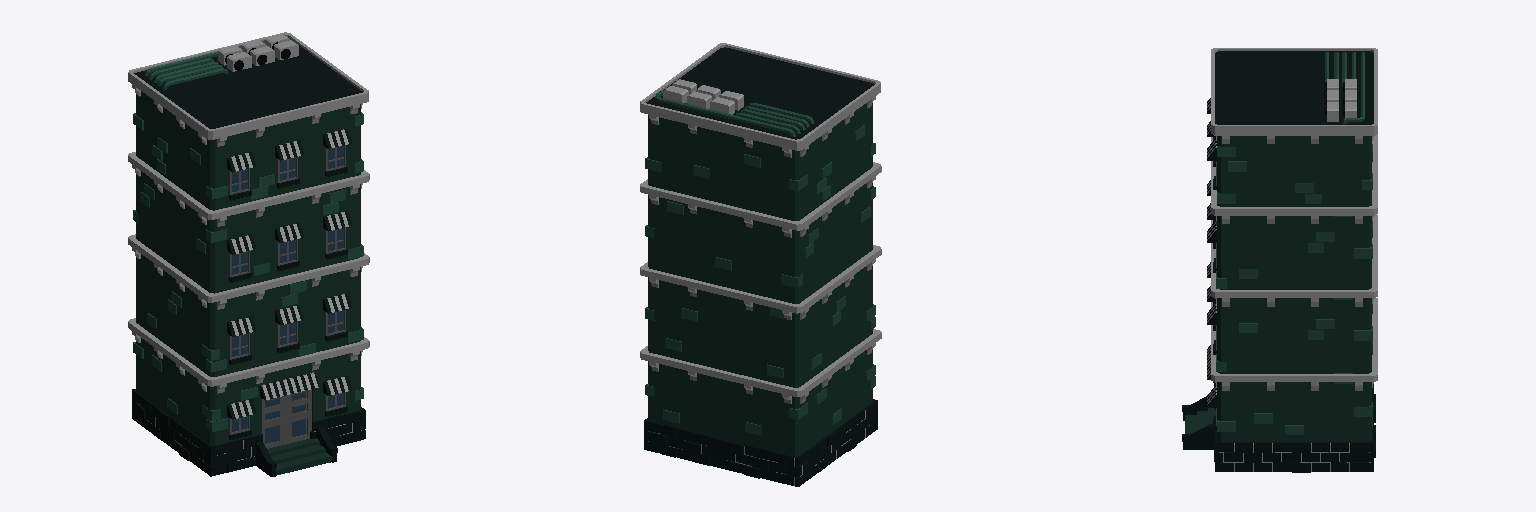
The model's file is 4Story_Mat.obj.
3 views of the same model, side by side, from view 1: azimuth 30°, elevation 25°; view 2: azimuth 150°, elevation 25°; view 3: azimuth 270°, elevation 25° (orthographic).
Parts seen in each view (by area): view 1: 4Story_Mat; view 2: 4Story_Mat; view 3: 4Story_Mat.
Part boxes in pixels (x1,y1,x2,y2): 4Story_Mat: (128, 32, 369, 476); 4Story_Mat: (640, 43, 881, 486); 4Story_Mat: (1182, 48, 1377, 472).
Size of the model in its own units: 7.26 by 15.28 by 7.6.